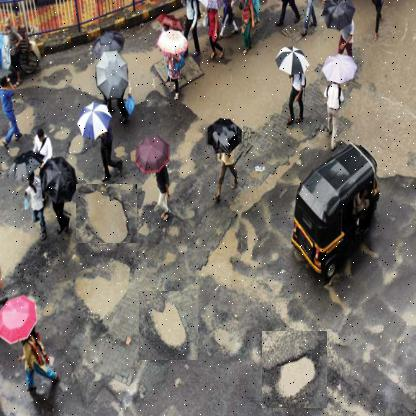pothole_water: (262, 331, 328, 409), (139, 292, 199, 362), (76, 184, 138, 244)
